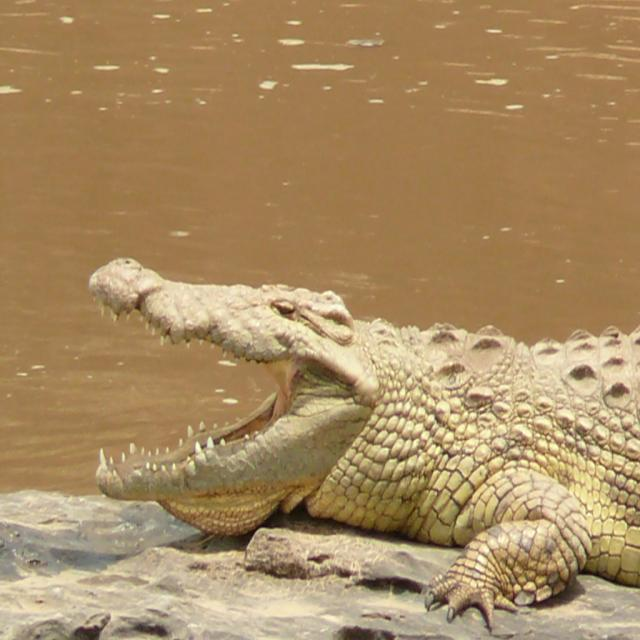crocodile: (81, 250, 639, 624)
